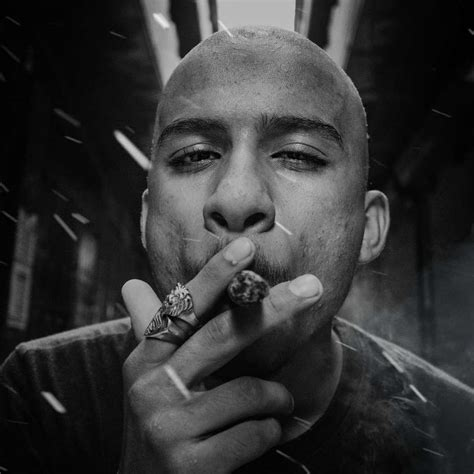cigarette: (225, 267, 271, 311)
